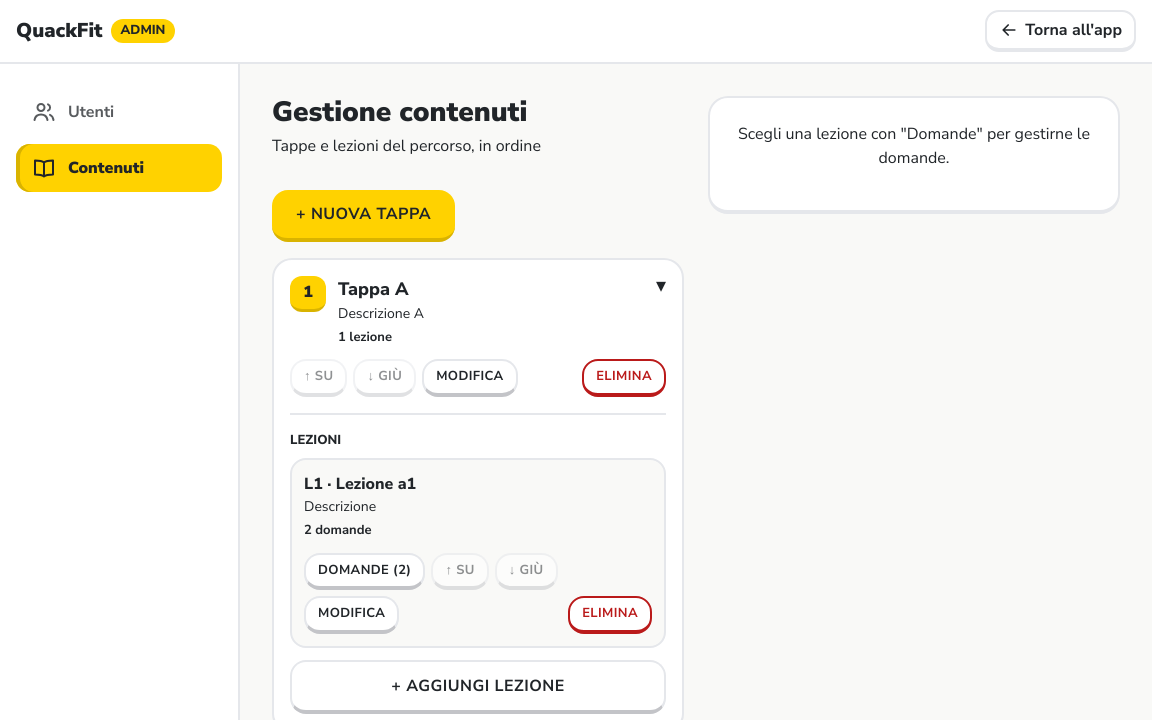
creazione e modifica › un 404 (eliminata nel frattempo) chiude il form, mostra il messaggio e rilegge
The image size is (1152, 720).
What coordinates should you click on to do the following:
click the button with aria-label "Modifica la lezione «Lezione a1»"
I would click on:
 (352, 615)
Its box is [304,596,399,634].
(page scrolled)
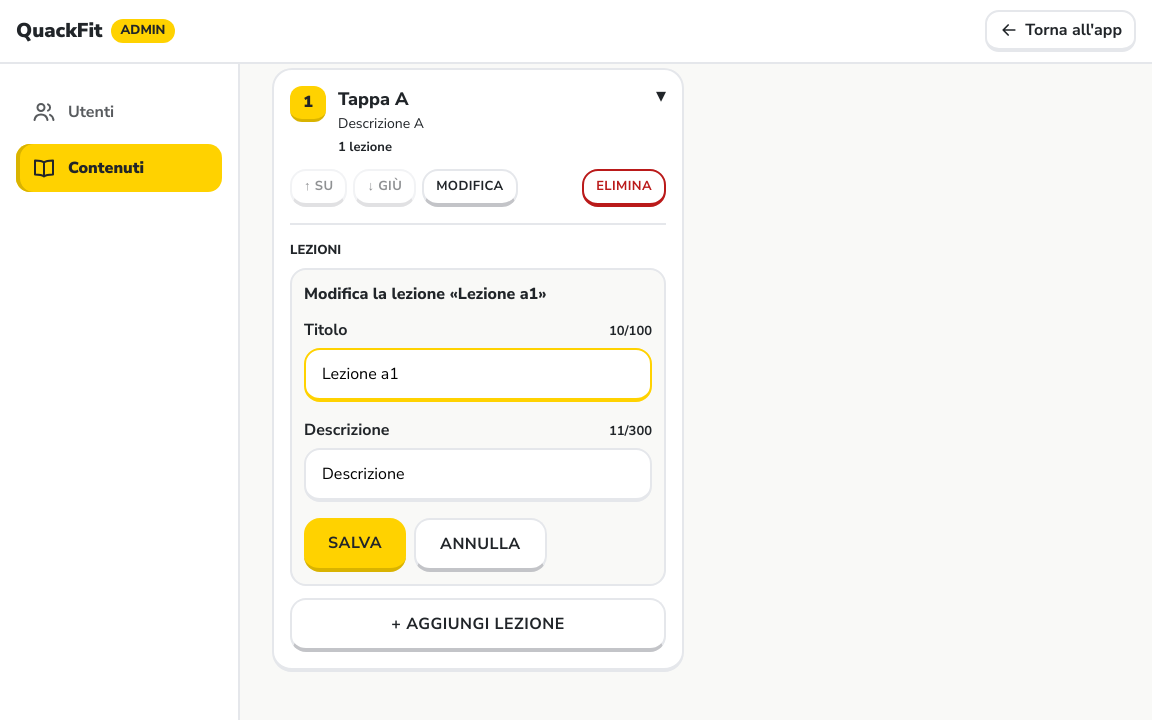
What coordinates should you click on to do the following:
click the button "Salva"
I would click on:
 (355, 545)
Its box is [304,518,406,572].
(page scrolled)
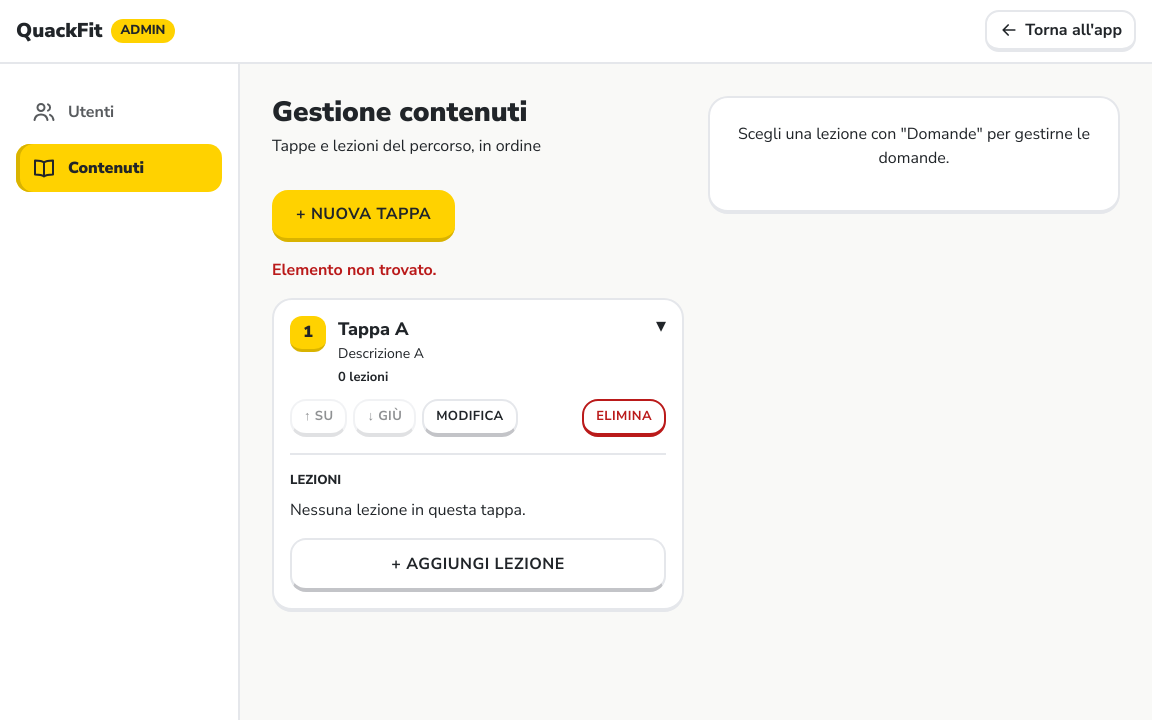
Expected: the text "L1 · Lezione a1" is not shown
Now the message reads "Elemento non trovato.", box [272,259,436,281]
Now the form is gone
